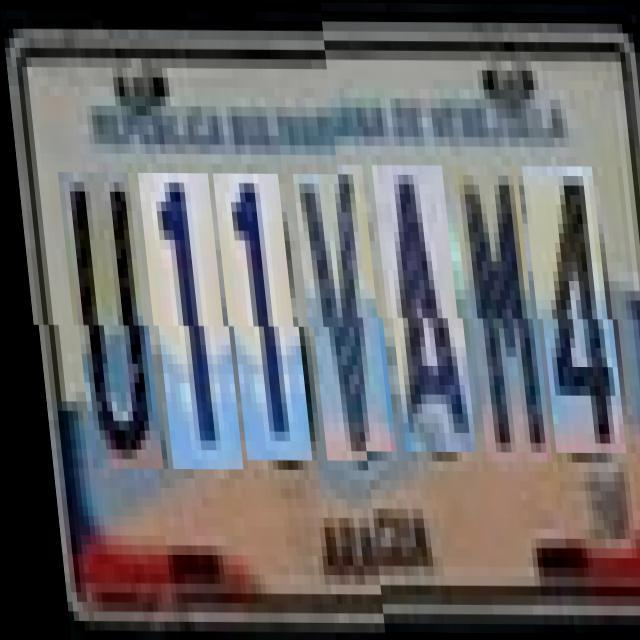1: (139, 173, 233, 469), (214, 173, 302, 460)
4: (524, 175, 617, 462)
A: (374, 174, 467, 461)
M: (454, 174, 543, 470)
U: (59, 172, 153, 468)
V: (294, 174, 387, 460)
